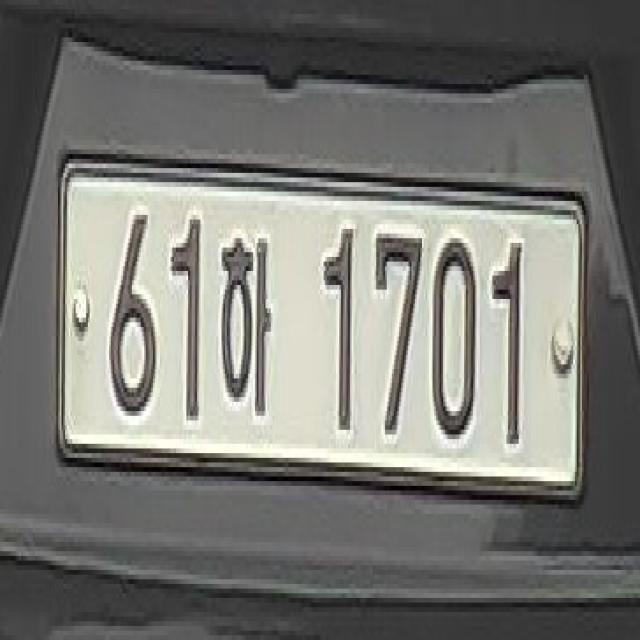0: (426, 223, 478, 444)
1: (316, 212, 363, 448), (164, 201, 210, 434), (484, 231, 532, 453)
6: (104, 195, 160, 423)
7: (370, 222, 424, 447)
ha: (217, 211, 276, 437)
license_plate: (52, 137, 596, 532)
